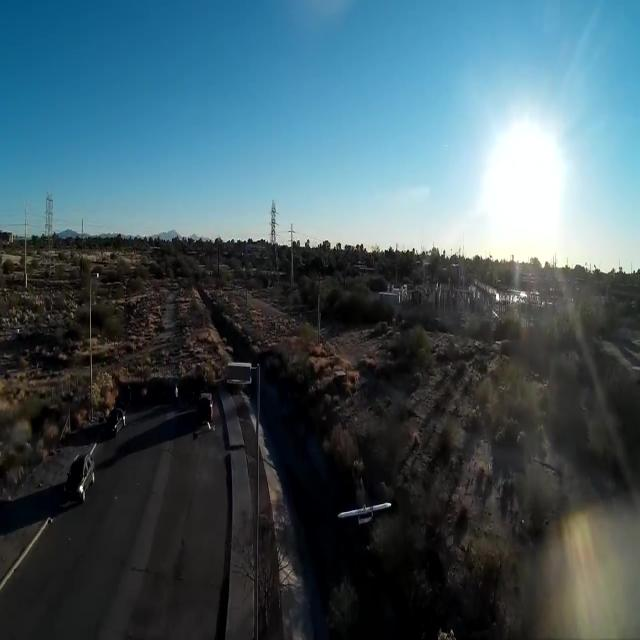iha: (337, 500, 392, 524)
